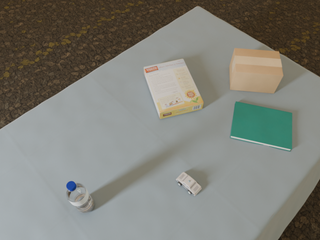book: (230, 102, 292, 151)
bottle: (66, 181, 94, 214)
box: (144, 59, 204, 119), (229, 48, 283, 93)
toy_car: (176, 172, 201, 196)
